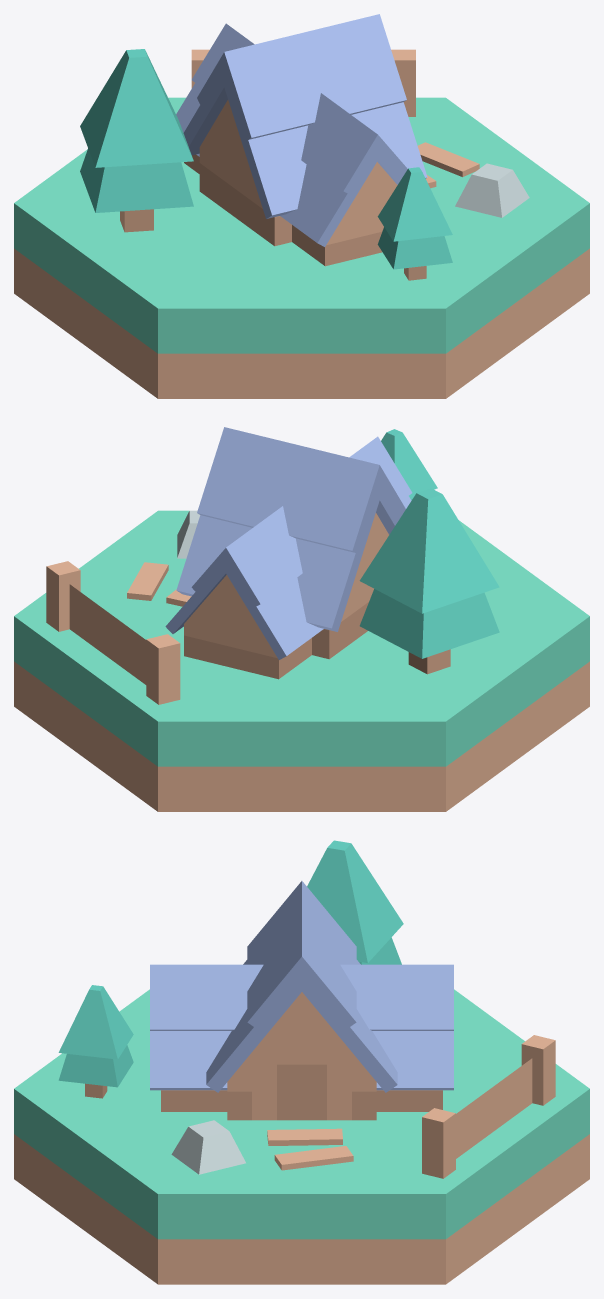
File: building_tavern.fbx
3 renders of one model, top to bottom at view 1: azimuth 30°, elevation 25°; view 2: azimuth 150°, elevation 25°; view 3: azimuth 270°, elevation 25°, orthographic.
Parts seen in each view (by area): view 1: grass, unit_houseLarge, tree, tree.002, rock, fence, path.001; view 2: grass, unit_houseLarge, tree, fence, tree.002, path.001, rock; view 3: grass, unit_houseLarge, fence, tree, tree.002, rock, path.001.
Boxes of the visible parts, bbox=[...] form: grass: bbox=[14, 97, 589, 398]; unit_houseLarge: bbox=[176, 14, 427, 266]; tree: bbox=[80, 49, 193, 232]; tree.002: bbox=[377, 167, 452, 280]; rock: bbox=[455, 163, 529, 217]; fence: bbox=[191, 49, 415, 116]; path.001: bbox=[417, 142, 479, 188]; grass: bbox=[14, 510, 589, 811]; unit_houseLarge: bbox=[165, 427, 412, 679]; tree: bbox=[359, 488, 499, 674]; fence: bbox=[46, 561, 180, 704]; tree.002: bbox=[381, 429, 437, 500]; path.001: bbox=[127, 562, 191, 606]; rock: bbox=[177, 510, 200, 558]; grass: bbox=[14, 989, 589, 1284]; unit_houseLarge: bbox=[150, 881, 453, 1120]; fence: bbox=[422, 1035, 555, 1178]; tree: bbox=[307, 840, 403, 964]; tree.002: bbox=[58, 985, 133, 1098]; rock: bbox=[171, 1120, 245, 1174]; path.001: bbox=[267, 1128, 353, 1170].
Bounding box in the file's own units: 11.55 × 5.8 × 10.
